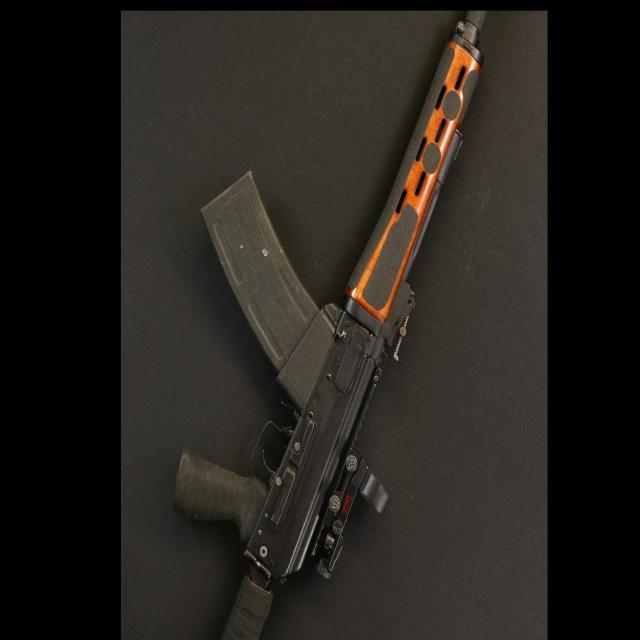weapon: (170, 12, 487, 640)
